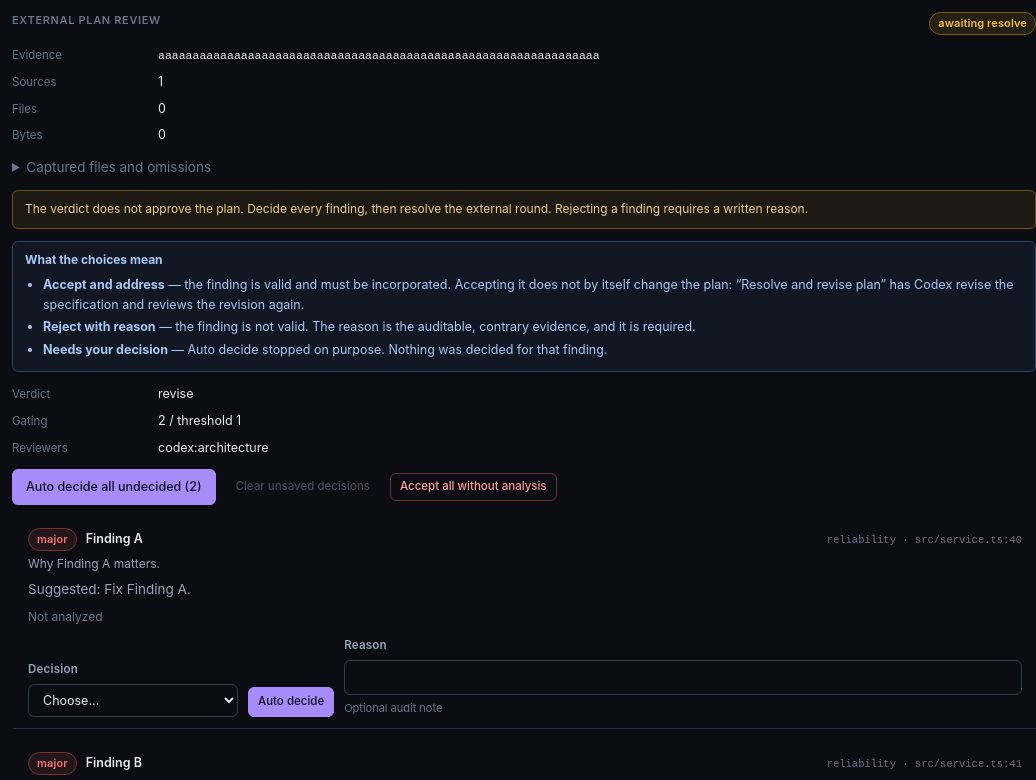
Test: plan review: Auto decide beside every Decision › keeps a failure inside its own finding with the real error and a Retry that works
The width and height of the screenshot is (1036, 780).
Expected: the text "Finding A" is shown, 86,529 -> 143,548
Click the button with aria-label "Auto decide: Finding A" at point(291, 702), box 248,687 -> 334,717
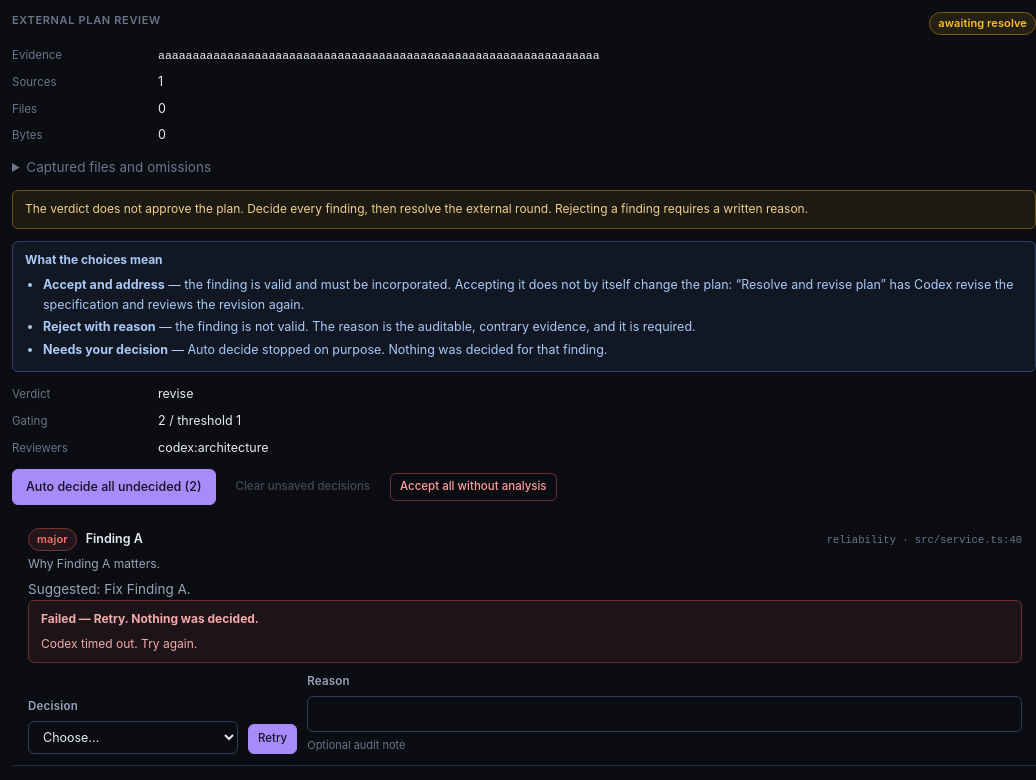
Now the message shows "Failed — Retry. Nothing was decided.", box 41,611 -> 259,626
Now the message shows "Codex timed out. Try again.", box 41,636 -> 197,651
Now the button with aria-label "Retry auto decide: Finding A" reads "Retry"
Click the button with aria-label "Retry auto decide: Finding A" at point(273, 739), box 248,724 -> 297,754
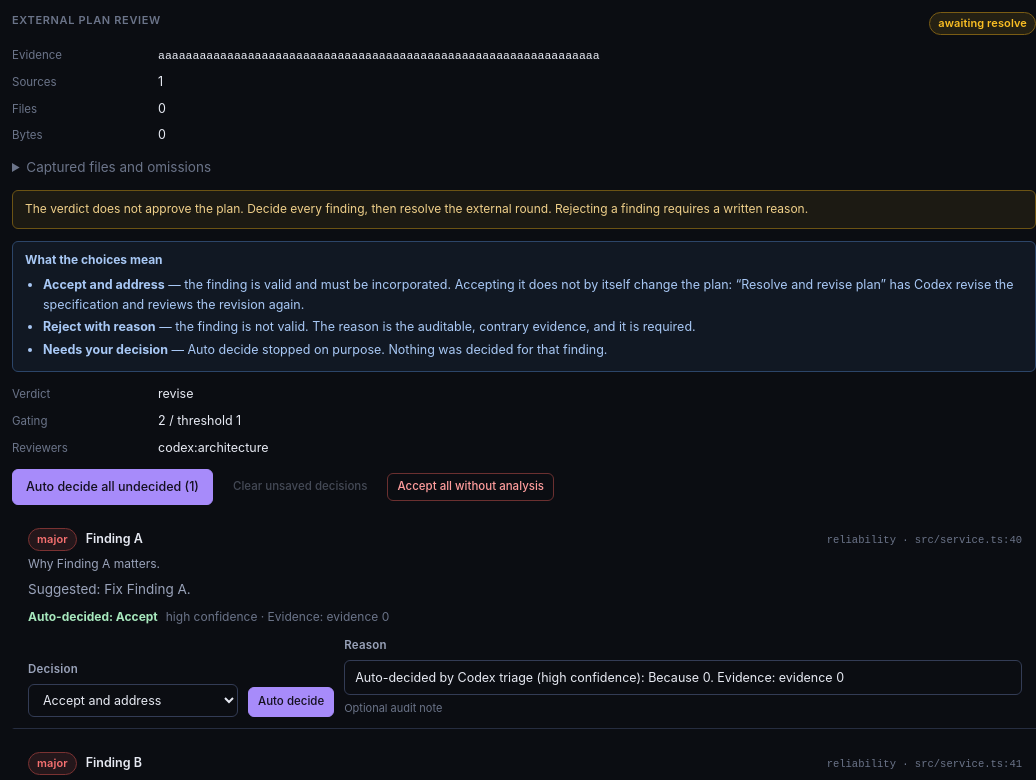
Now the dropdown labelled "Decision" shows "Accept and address", box 28,684 -> 238,717
